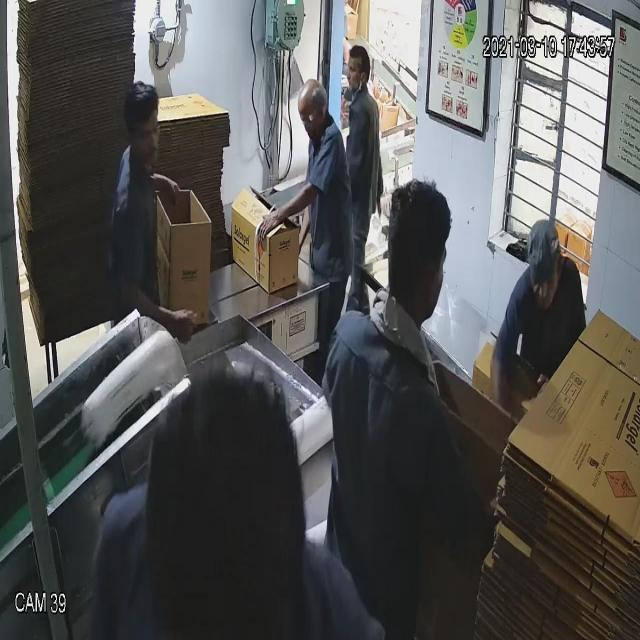No_Gloves: (70, 70, 290, 316)
